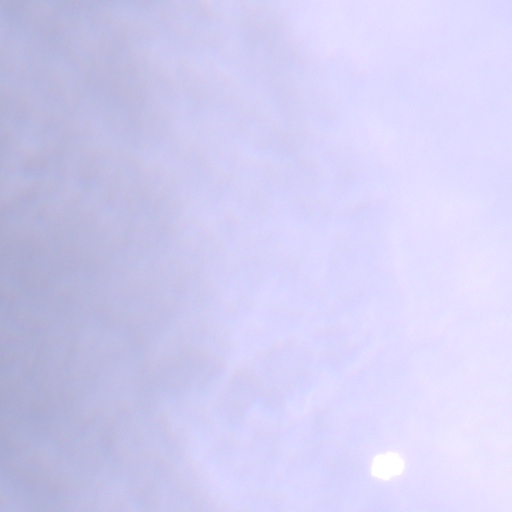Iceberg: (370, 452, 404, 479)
